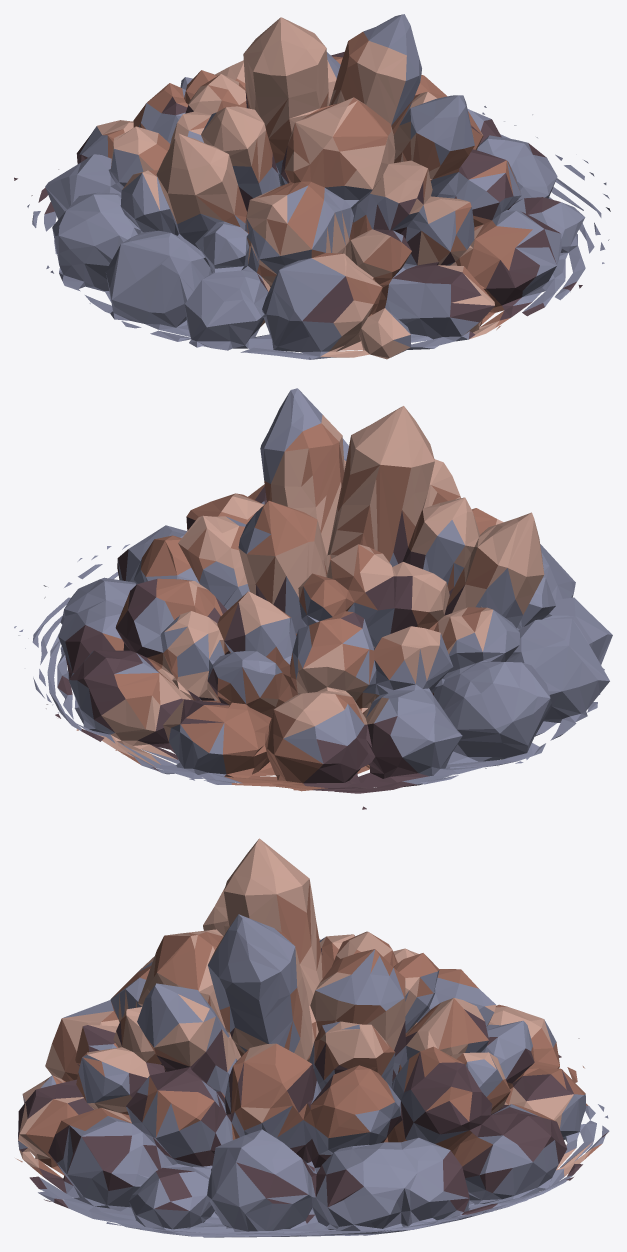
File: ore_mound.glb
3 renders of one model, top to bottom at view 1: azimuth 30°, elevation 25°; view 2: azimuth 150°, elevation 25°; view 3: azimuth 270°, elevation 25°, orthographic. The views are drawn at different scales.
Visible parts, largest first — view 1: geometry_0; view 2: geometry_0; view 3: geometry_0.
Boxes of the visible parts, x1,y1,x2,y2 form: geometry_0: [14, 14, 610, 359]; geometry_0: [14, 388, 612, 809]; geometry_0: [15, 838, 609, 1237].
Size of the model in its own units: 1.98 by 1.05 by 1.96.
